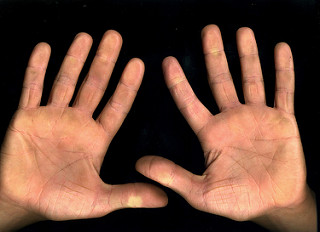palm: (14, 109, 101, 209), (206, 117, 298, 211)
